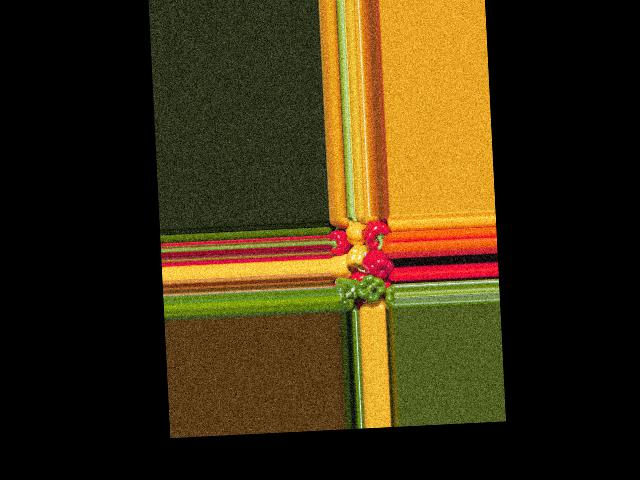bell_pepper: (380, 283, 397, 310)
